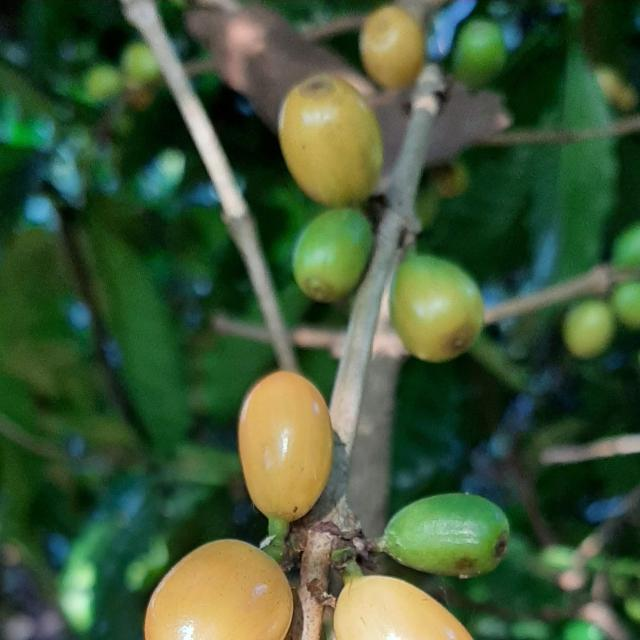green: (378, 494, 510, 580), (292, 208, 373, 302), (453, 18, 507, 88)
red: (144, 541, 293, 640), (238, 371, 333, 523), (334, 577, 473, 640)
yellow: (279, 73, 383, 207), (391, 254, 484, 362)
